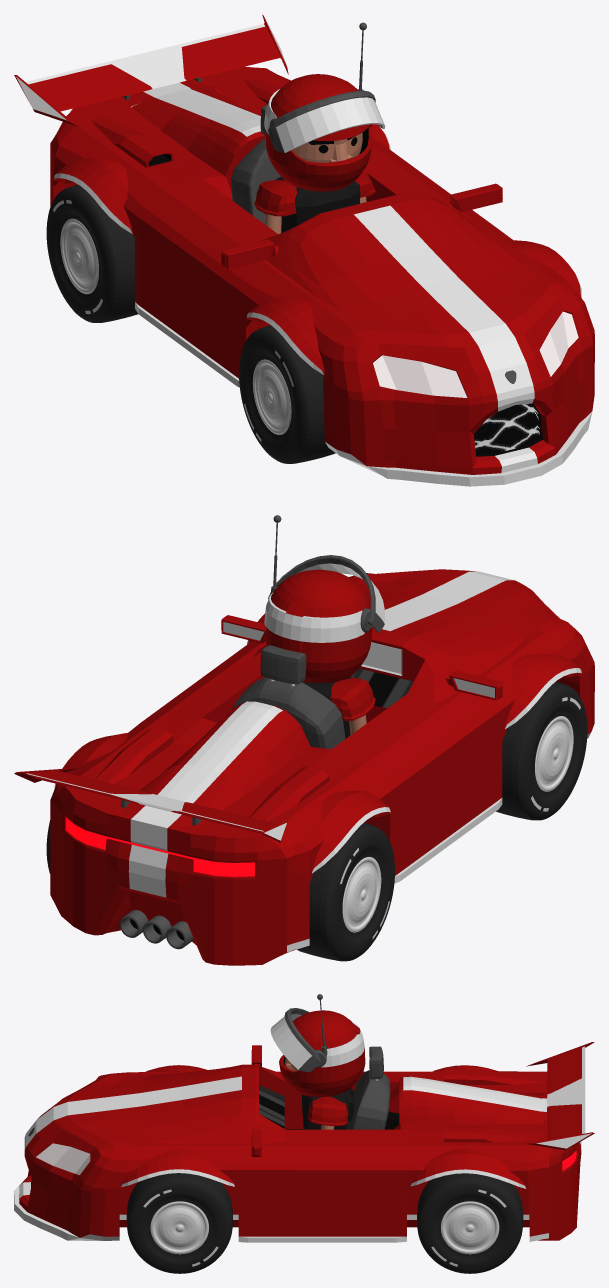
File: carlitos coche final 2.fbx
The picture shows the model from 3 angles, top to bottom: view 1: azimuth 30°, elevation 25°; view 2: azimuth 150°, elevation 25°; view 3: azimuth 270°, elevation 25°; orthographic projection. The views are drawn at different scales.
Parts seen in each view (by area): view 1: Coche, WRR, WFR, Casco.001, Visor, Cuerpo Carlitos, Cabeza Carlitos; view 2: Coche, Casco.001, WFR, WRR, Cuerpo Carlitos, Visor; view 3: Coche, WFL, WRL, Casco.001, Cuerpo Carlitos, Visor.
Boxes of the visible parts, x1,y1,x2,y2 form: Coche: (14, 14, 594, 486); WRR: (46, 184, 138, 322); WFR: (239, 325, 335, 463); Casco.001: (264, 22, 372, 191); Visor: (268, 90, 384, 152); Cuerpo Carlitos: (254, 169, 375, 234); Cabeza Carlitos: (292, 132, 362, 162); Coche: (14, 569, 594, 965); Casco.001: (264, 515, 372, 682); WFR: (496, 682, 587, 820); WRR: (297, 823, 394, 961); Cuerpo Carlitos: (260, 676, 375, 738); Visor: (268, 555, 385, 632); Coche: (14, 1042, 594, 1242); WFL: (126, 1173, 232, 1273); WRL: (417, 1173, 523, 1273); Casco.001: (279, 994, 365, 1096); Cuerpo Carlitos: (302, 1088, 354, 1129); Visor: (270, 1008, 320, 1071).
Bounding box in the file's own units: 111 × 120 × 258.
Materials: 16 (3 with a texture image).
